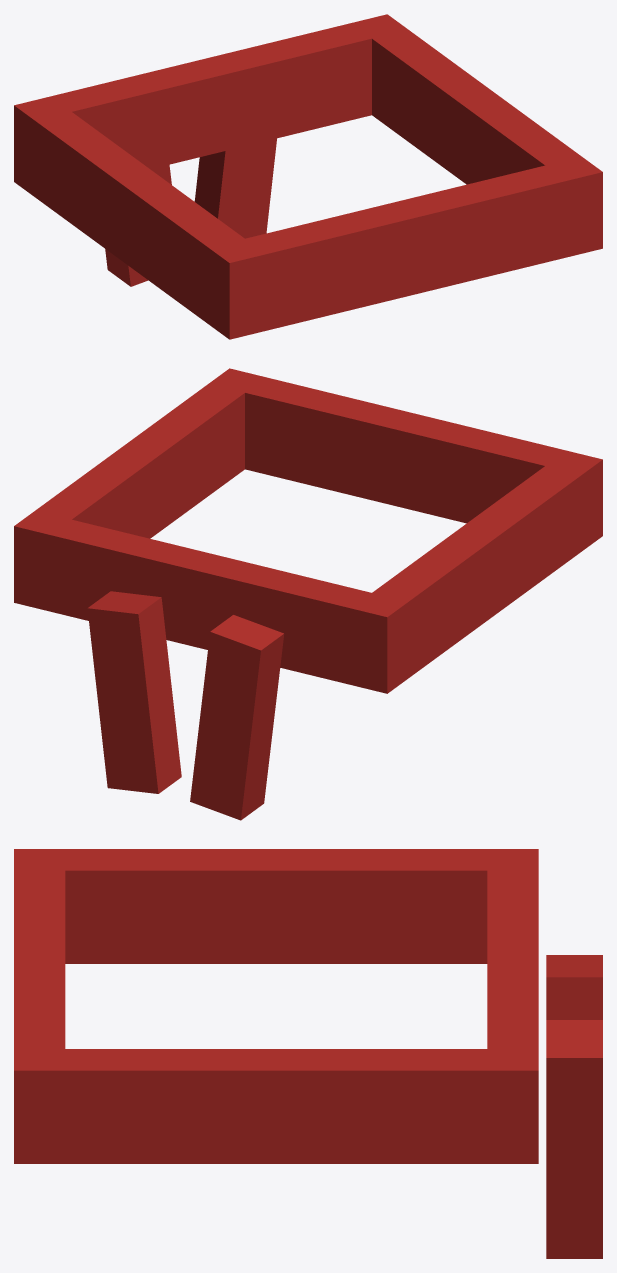
Rendered from red_bandana.glb.
3 renders of one model, top to bottom at view 1: azimuth 30°, elevation 25°; view 2: azimuth 150°, elevation 25°; view 3: azimuth 270°, elevation 25°, orthographic. The views are drawn at different scales.
Visible parts, largest first — view 1: red_bandana; view 2: red_bandana; view 3: red_bandana.
Boxes of the visible parts, left/top/right/bottom form: red_bandana: left=14, top=14, right=602, bottom=339; red_bandana: left=14, top=368, right=602, bottom=820; red_bandana: left=14, top=849, right=602, bottom=1258.
Bounding box in the file's own units: 0.51 × 0.2784 × 0.5725.
